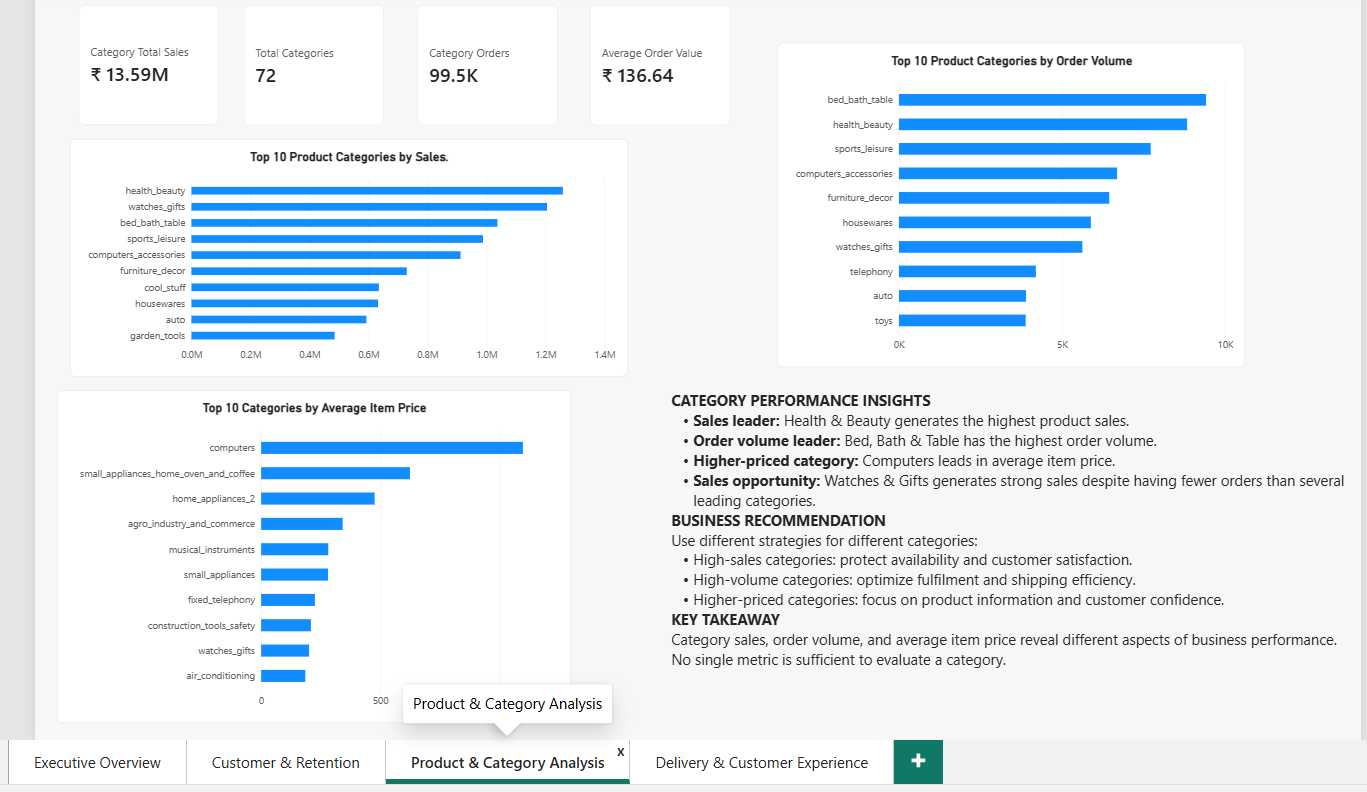

This screenshot's page, from the dashboard's own definition file:
{"tool":"powerbi","page":{"name":"Product & Category Analysis","canvas":[1920,1080],"ordinal":2},"visuals":[{"type":"cardVisual","fields":{"Data":["public vw_category_performance.Category Total Sales"]},"box":[63.8,16.5,202.7,173.7],"z":0},{"type":"cardVisual","fields":{"Data":["public vw_category_performance.Total Categories"]},"box":[302.6,16.5,203,174],"z":1000},{"type":"cardVisual","fields":{"Data":["public vw_category_performance.Category Orders"]},"box":[553.7,16.5,203,174],"z":2000},{"type":"cardVisual","title":"Average Order Value","fields":{"Data":["public vw_category_performance.Category Average Order Value"]},"box":[802.7,16.5,203,174],"z":3000},{"type":"clusteredBarChart","title":"Top 10 Product Categories by Sales.","fields":{"Category":["public vw_category_performance.category"],"Y":["public vw_category_performance.Category Product Sales"]},"box":[50.7,209.9,807.1,343.8],"z":4000},{"type":"clusteredBarChart","title":"Top 10 Product Categories by Order Volume","fields":{"Category":["public vw_category_performance.category"],"Y":["public vw_category_performance.Category Orders"]},"box":[1074.9,70.6,677.2,469.3],"z":5000},{"type":"clusteredBarChart","title":"Top 10 Categories by Average Item Price","fields":{"Category":["public vw_category_performance.category"],"Y":["Sum(public vw_category_performance.avg_item_price)"]},"box":[32.9,574.3,743.1,481.6],"z":6000},{"type":"textbox","box":[921.1,573.7,984.5,481.4],"z":7000}]}

Visuals, with their boxes on the page's 1920x1080 design canvas (x1, y1, x2, y2). These are canvas units, not pixel positions in the 1367x792 screenshot, which may show the page scaled, cropped or inside an application window:
cardVisual - public vw_category_performance.Category Total Sales: box=[64, 16, 266, 190]
cardVisual - public vw_category_performance.Total Categories: box=[303, 16, 506, 190]
cardVisual - public vw_category_performance.Category Orders: box=[554, 16, 757, 190]
"Average Order Value" cardVisual: box=[803, 16, 1006, 190]
"Top 10 Product Categories by Sales." clusteredBarChart: box=[51, 210, 858, 554]
"Top 10 Product Categories by Order Volume" clusteredBarChart: box=[1075, 71, 1752, 540]
"Top 10 Categories by Average Item Price" clusteredBarChart: box=[33, 574, 776, 1056]
textbox: box=[921, 574, 1906, 1055]
